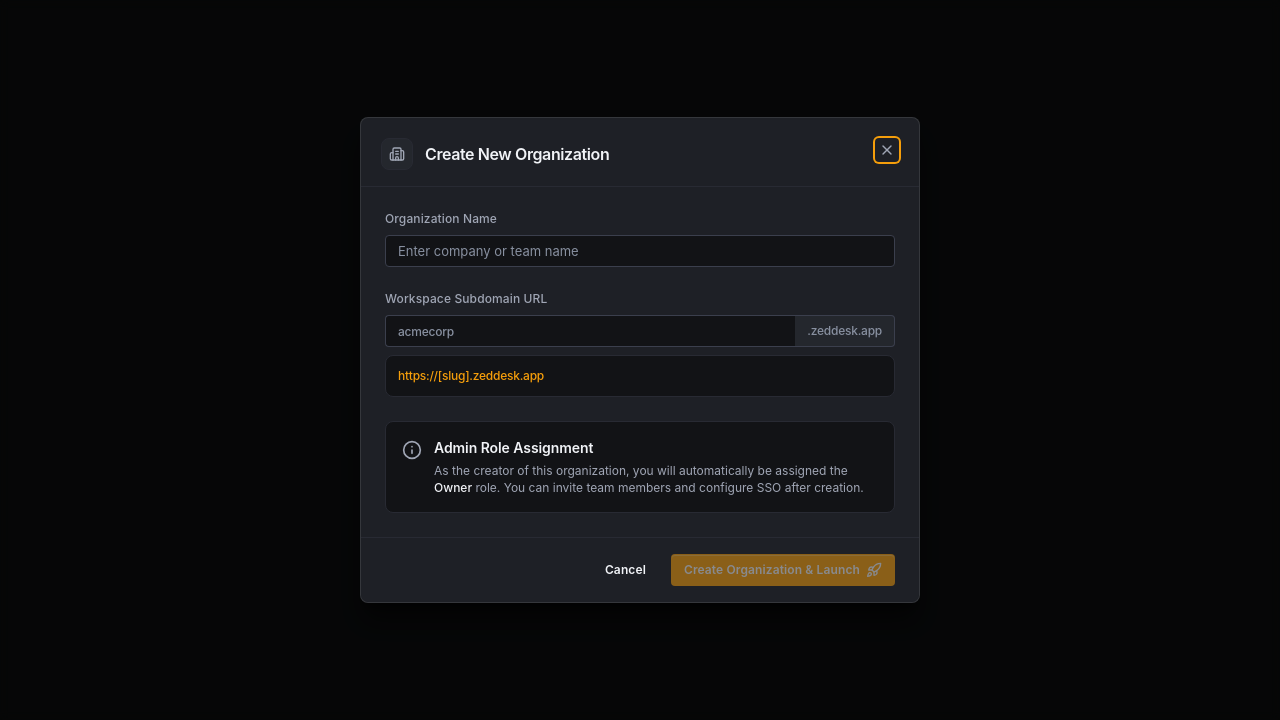
Test case: CreateOrganizationModal › checks slug availability against backend when apiUrl is provided
Type "taken-org" into the field labelled "Workspace Subdomain URL" at (590, 331), box [385,315,795,347]
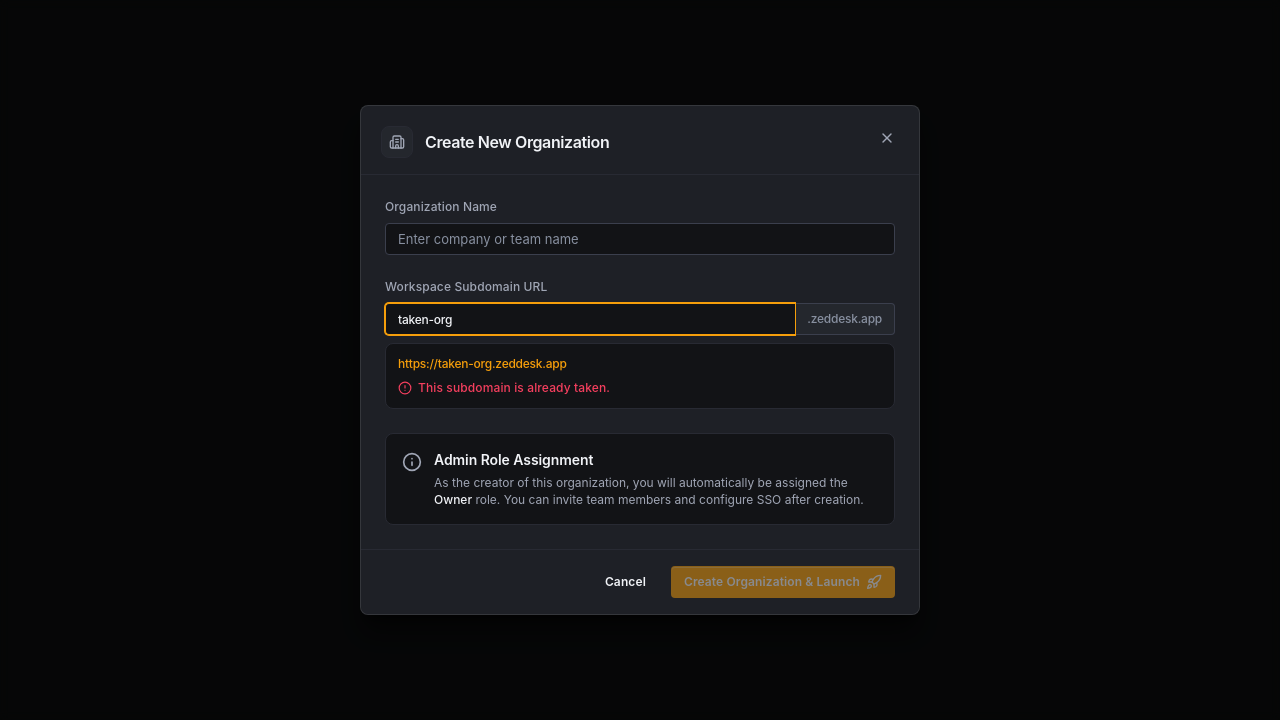
Check: the button "Create Organization & Launch" is disabled, box [671,566,895,598]
Check: the text "This subdomain is already taken." is shown, box [418,380,610,396]
